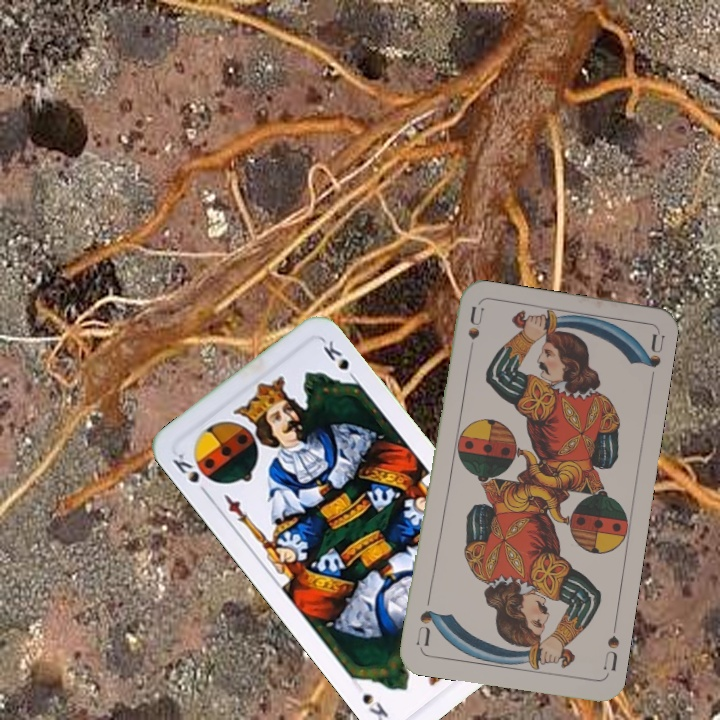SK: (168, 449, 216, 499)
SU: (598, 618, 622, 677), (463, 303, 485, 363)
